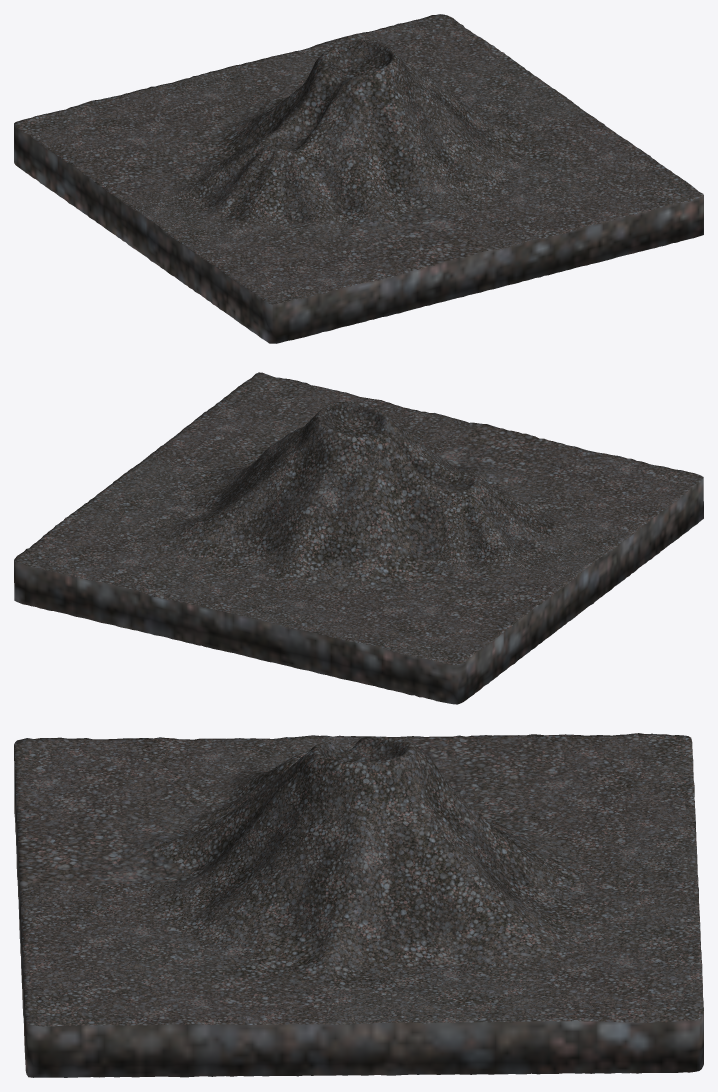
Rendered from Volcano7.fbx.
The picture shows the model from 3 angles, top to bottom: view 1: azimuth 30°, elevation 25°; view 2: azimuth 150°, elevation 25°; view 3: azimuth 270°, elevation 25°; orthographic projection. The views are drawn at different scales.
Parts seen in each view (by area): view 1: Volcano7BaseWithUVs; view 2: Volcano7BaseWithUVs; view 3: Volcano7BaseWithUVs.
Boxes of the visible parts, x1,y1,x2,y2 form: Volcano7BaseWithUVs: (14, 14, 703, 343); Volcano7BaseWithUVs: (14, 372, 703, 704); Volcano7BaseWithUVs: (14, 733, 703, 1077).
Size of the model in its own units: 3050 by 935 by 3051.
